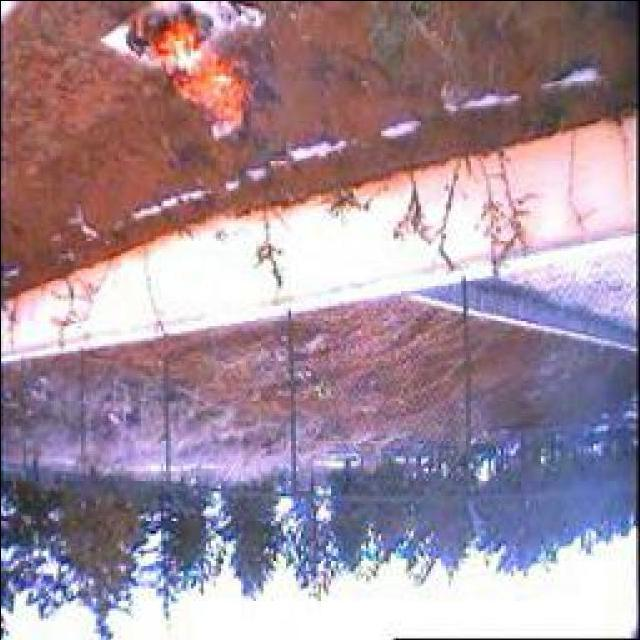Fire: (120, 0, 250, 141)
